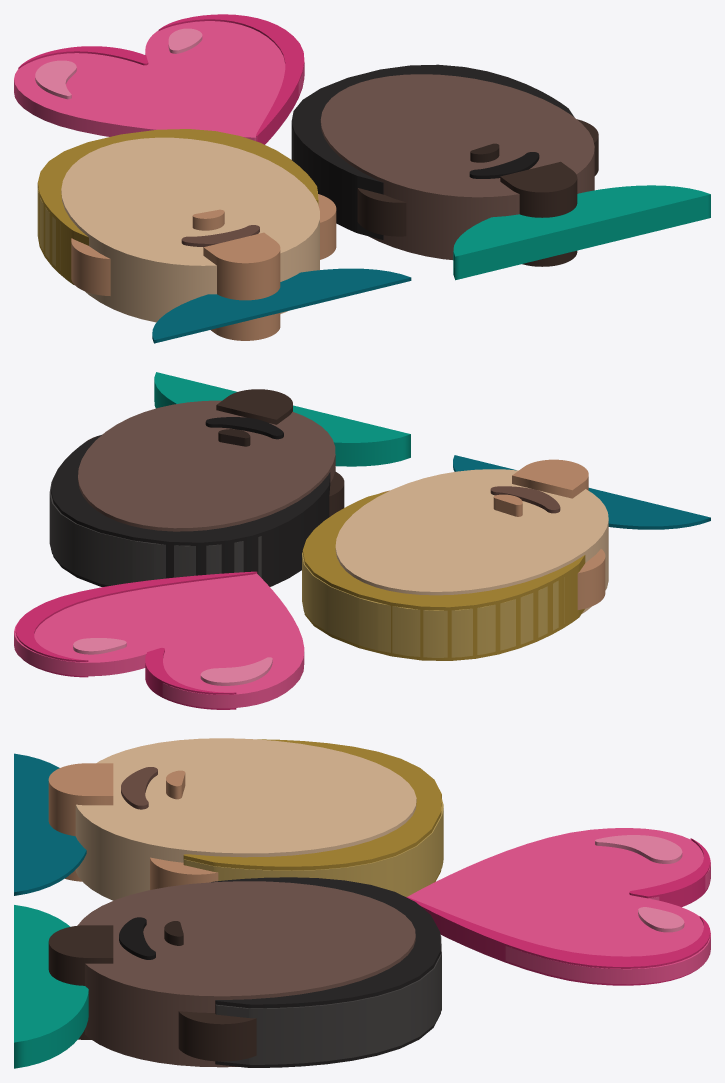
File: emoji_u1f468_1f3fc_200d_2764_200d_1f468_1f3ff.glb
3 renders of one model, top to bottom at view 1: azimuth 30°, elevation 25°; view 2: azimuth 150°, elevation 25°; view 3: azimuth 270°, elevation 25°, orthographic. The views are drawn at different scales.
Visible parts, largest first — view 1: emoji_u1f468_1f3fc_200d_2764_200d_1f468_1f3ff; view 2: emoji_u1f468_1f3fc_200d_2764_200d_1f468_1f3ff; view 3: emoji_u1f468_1f3fc_200d_2764_200d_1f468_1f3ff.
Part boxes in pixels (left/top/right/bottom): emoji_u1f468_1f3fc_200d_2764_200d_1f468_1f3ff: left=14, top=14, right=710, bottom=343; emoji_u1f468_1f3fc_200d_2764_200d_1f468_1f3ff: left=14, top=372, right=710, bottom=709; emoji_u1f468_1f3fc_200d_2764_200d_1f468_1f3ff: left=14, top=738, right=710, bottom=1068.
Bounding box in the file's own units: 0.0345 × 0.005 × 0.0338.
